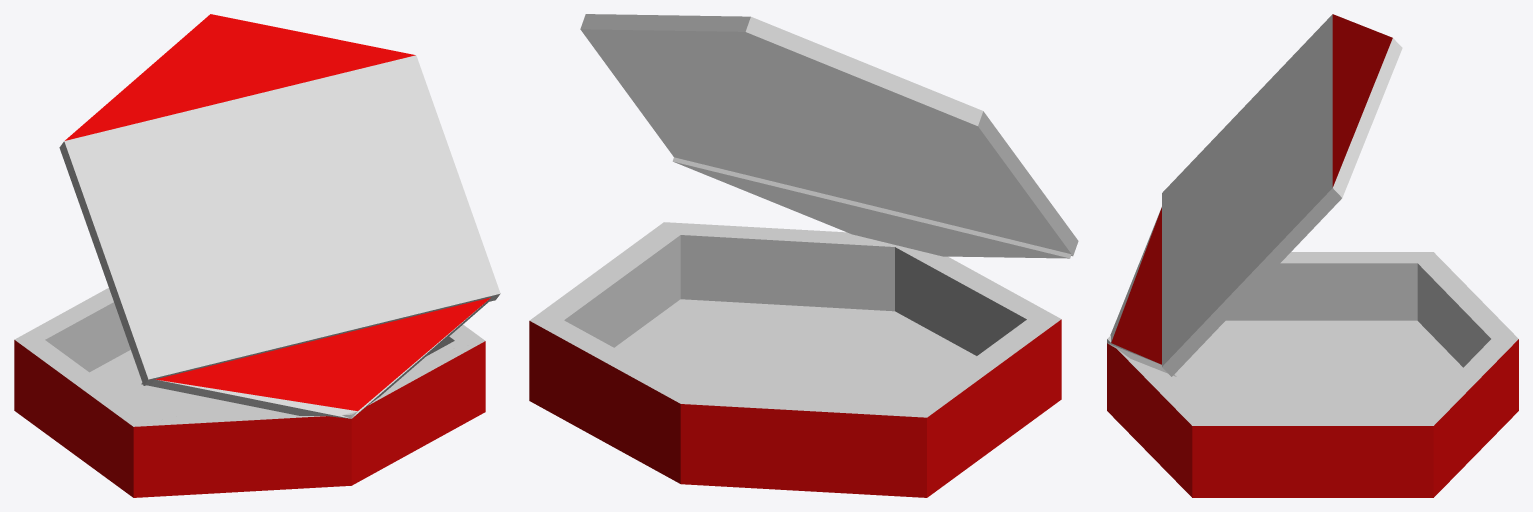
Rendered from pizzabox_color.fbx.
3 renders of one model, left to right at view 1: azimuth 30°, elevation 25°; view 2: azimuth 150°, elevation 25°; view 3: azimuth 270°, elevation 25°, orthographic. The views are drawn at different scales.
Visible parts, largest first — view 1: pizza_box; view 2: pizza_box; view 3: pizza_box.
Boxes of the visible parts, x1,y1,x2,y2 form: pizza_box: [14, 14, 500, 497]; pizza_box: [529, 14, 1078, 497]; pizza_box: [1107, 14, 1518, 497].
Bounding box in the file's own units: 1.5 × 1.5 × 1.5.
